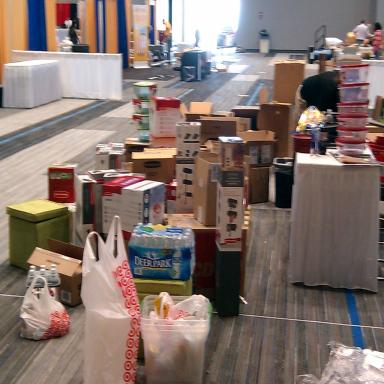plasticbag: (78, 213, 144, 383), (18, 273, 70, 340), (150, 292, 212, 324)
